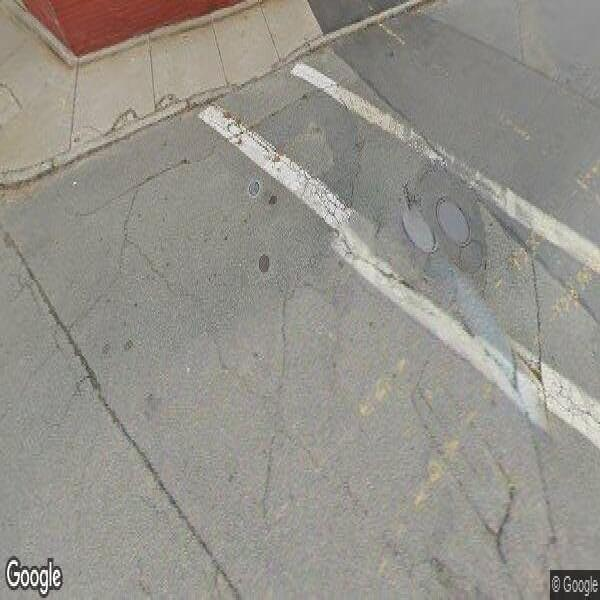manhole: (398, 160, 494, 293)
